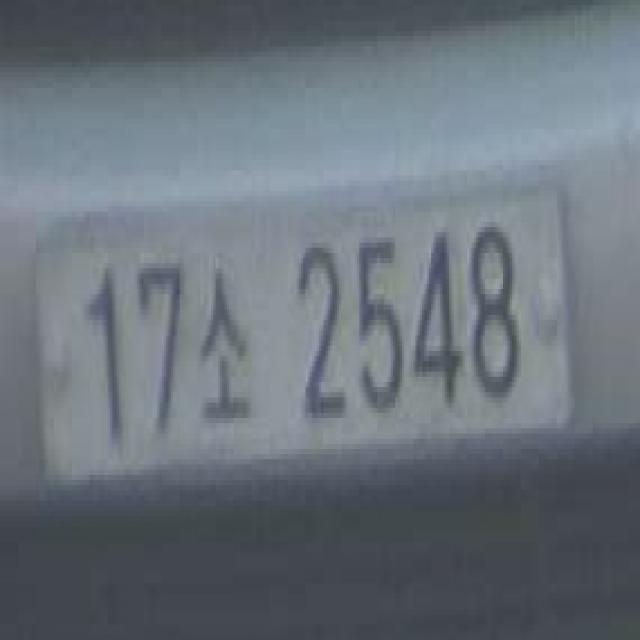1: (83, 237, 133, 470)
2: (290, 232, 350, 434)
4: (409, 202, 465, 424)
5: (352, 222, 407, 428)
7: (132, 238, 191, 454)
8: (467, 212, 523, 418)
license_plate: (27, 139, 586, 526)
so: (191, 238, 254, 454)
